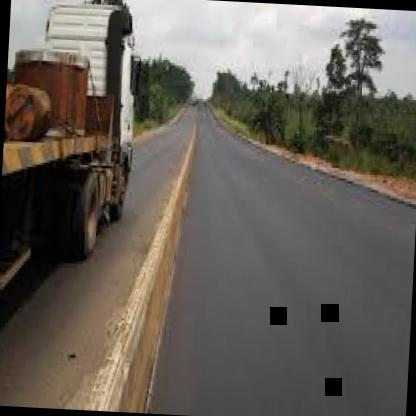car: (0, 0, 146, 333)
